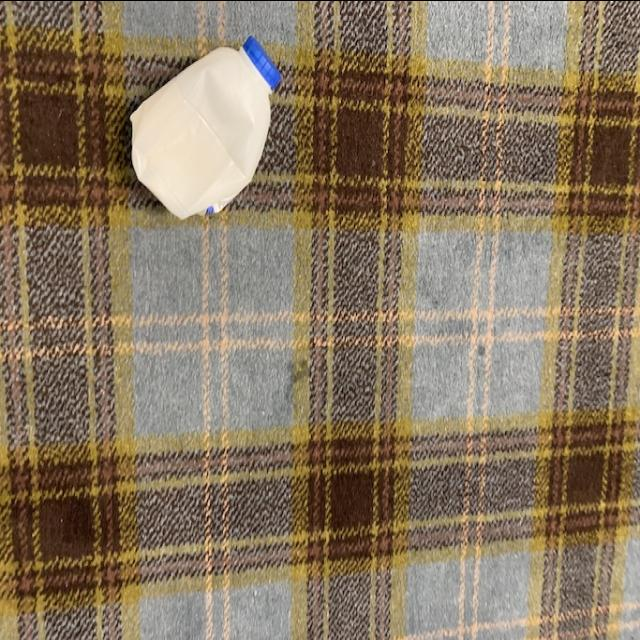litter: (126, 32, 288, 222)
